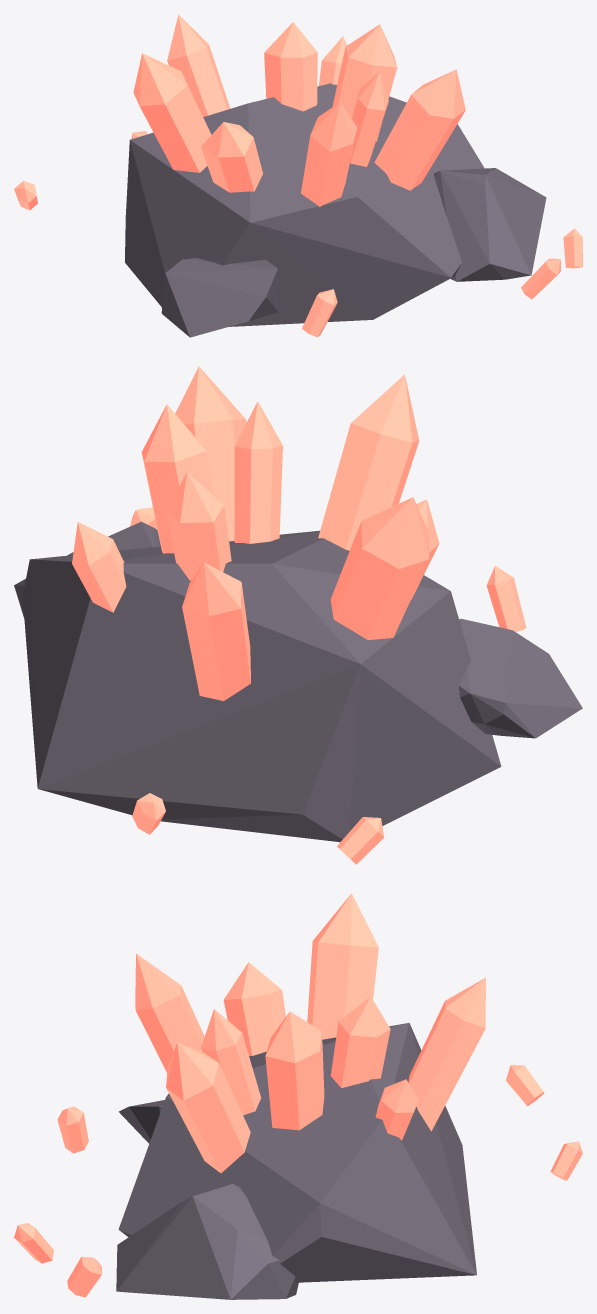
The model's file is Crystal_OreNode_Red.glb.
The picture shows the model from 3 angles, top to bottom: view 1: azimuth 30°, elevation 25°; view 2: azimuth 150°, elevation 25°; view 3: azimuth 270°, elevation 25°; orthographic projection. The views are drawn at different scales.
Visible parts, largest first — view 1: Crystal_OreNode_red; view 2: Crystal_OreNode_red; view 3: Crystal_OreNode_red.
Boxes of the visible parts, bbox=[...] form: Crystal_OreNode_red: bbox=[14, 14, 582, 337]; Crystal_OreNode_red: bbox=[14, 366, 582, 864]; Crystal_OreNode_red: bbox=[14, 893, 582, 1299].
Bounding box in the file's own units: 1.27 × 0.715 × 1.38.
